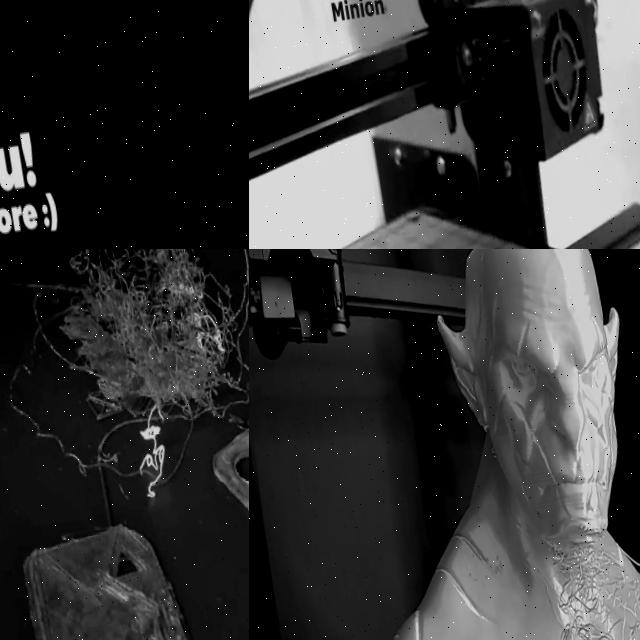spaghetti: (0, 249, 249, 430), (486, 510, 640, 640)
